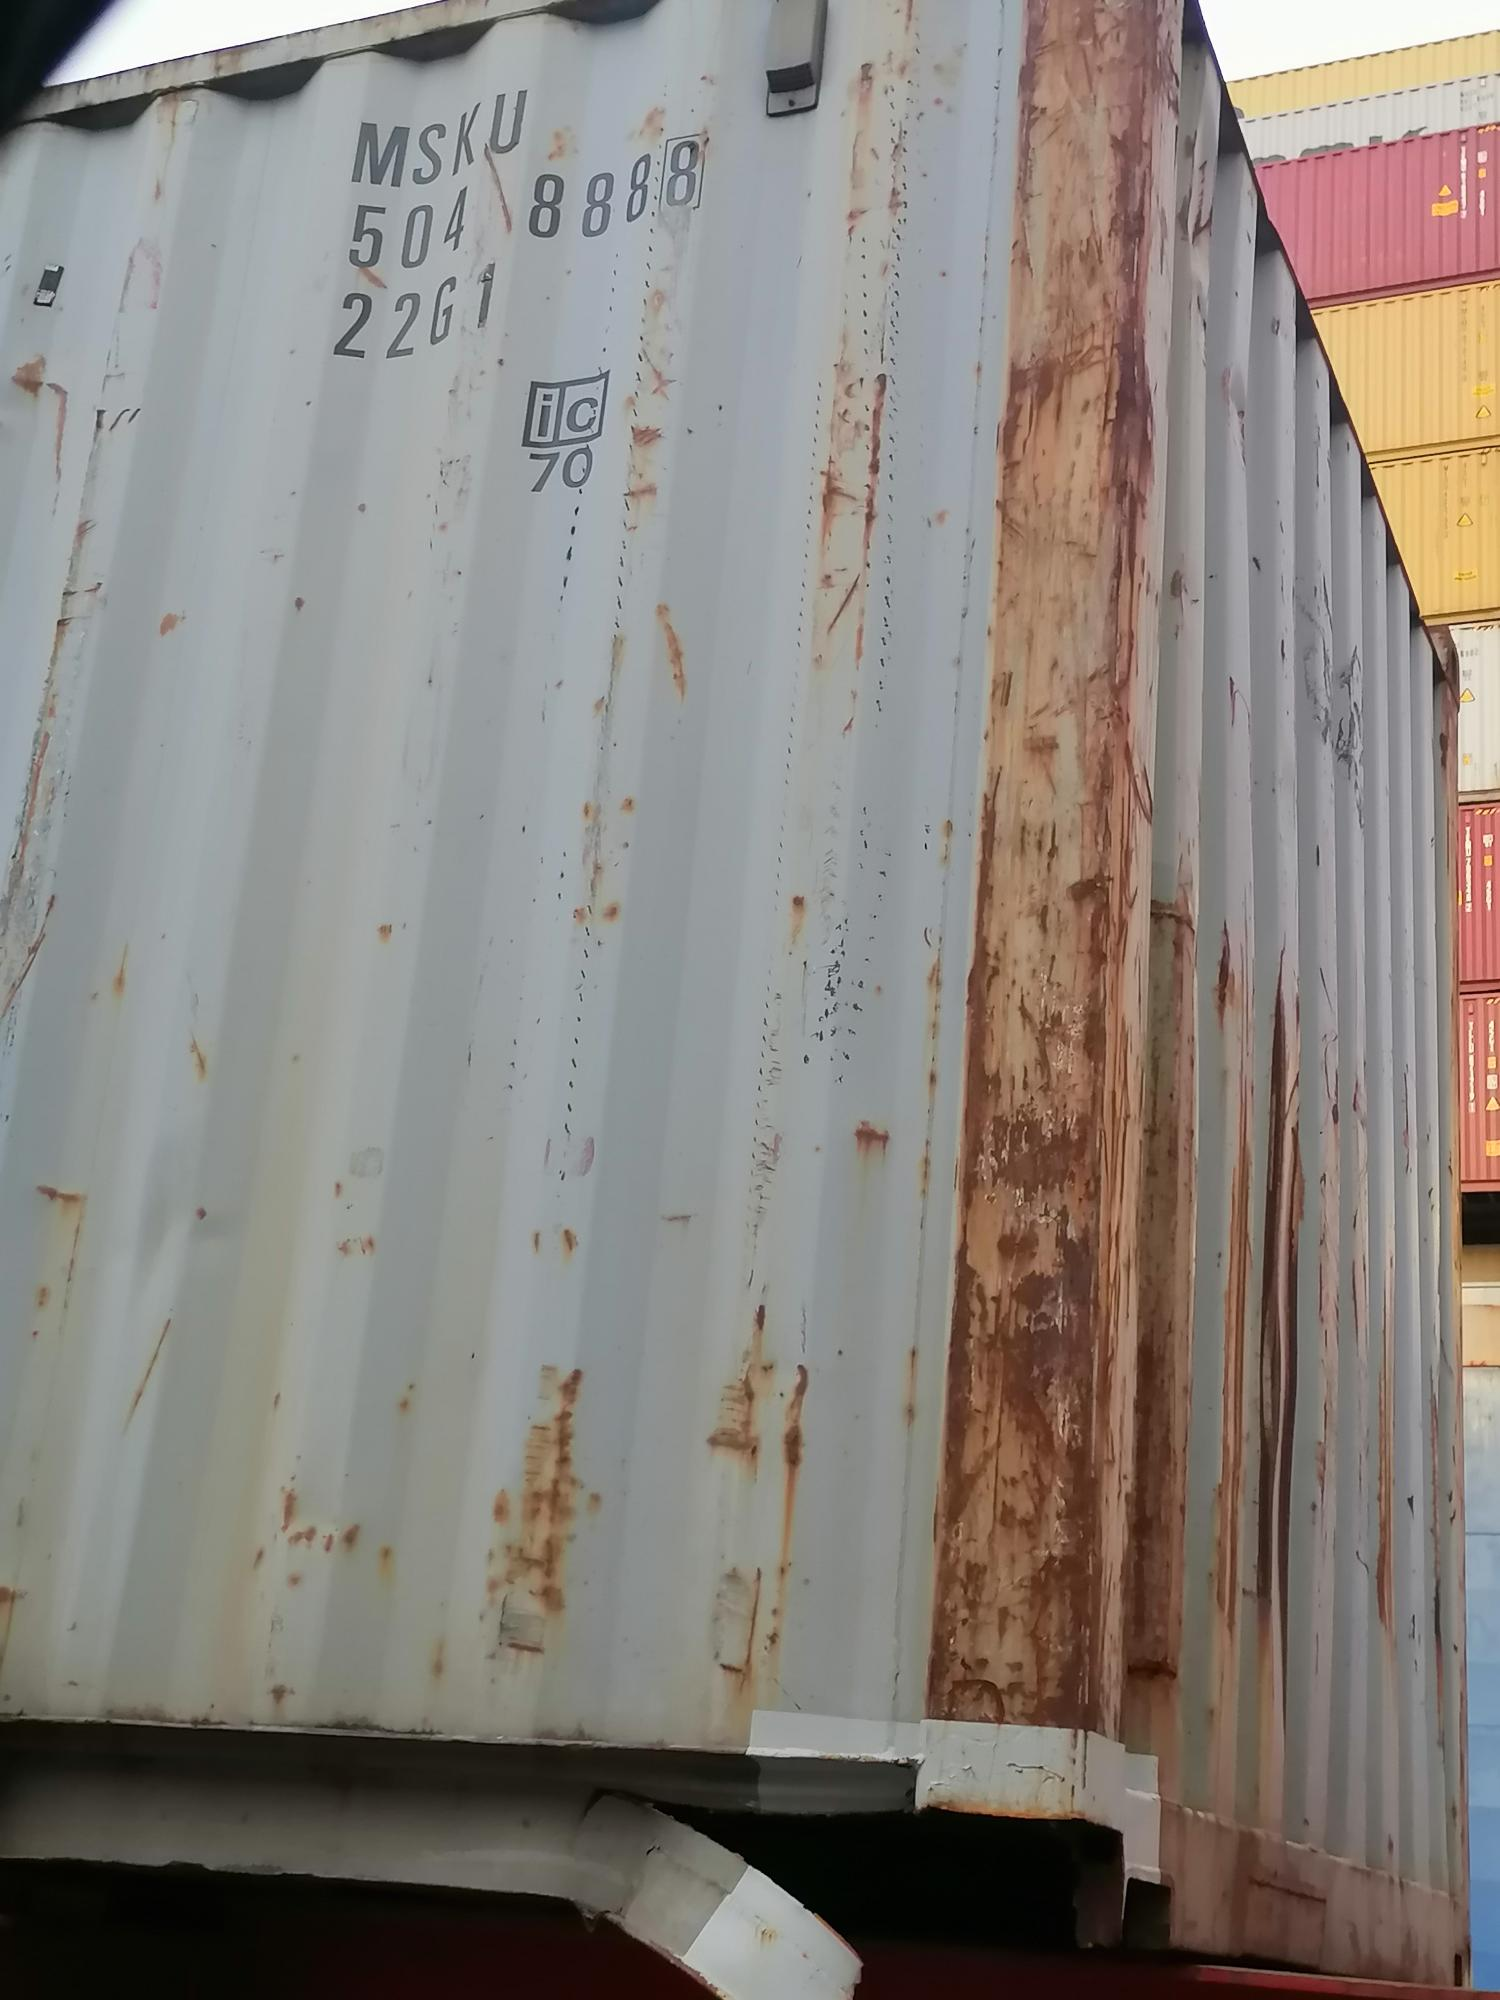rust: (1016, 46, 1123, 1702), (1179, 928, 1358, 1696)
